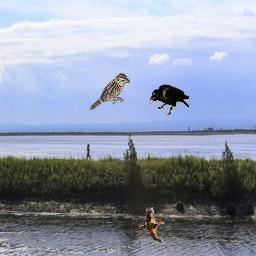Crow: (149, 84, 189, 115)
Sparrow: (90, 73, 130, 110)
Woodpecker: (138, 207, 165, 244)
